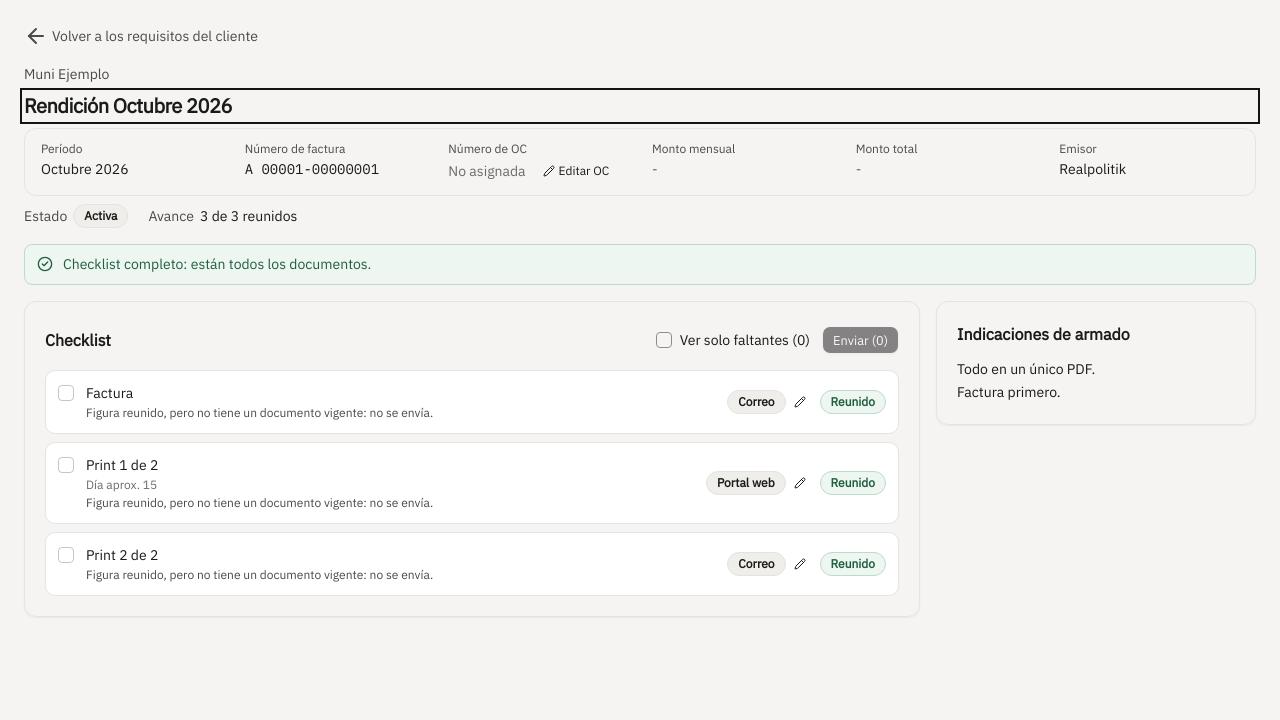
Test: RendicionDetallePage › con todos reunidos avisa que el checklist está completo
The image size is (1280, 720).
Expected: the text "Checklist completo: están todos los documentos." is shown, [63,255,371,273]
Click the checkbox named "Ver solo faltantes (0)" next to "Ver solo faltantes (" at (664, 340), box [656,332,672,348]
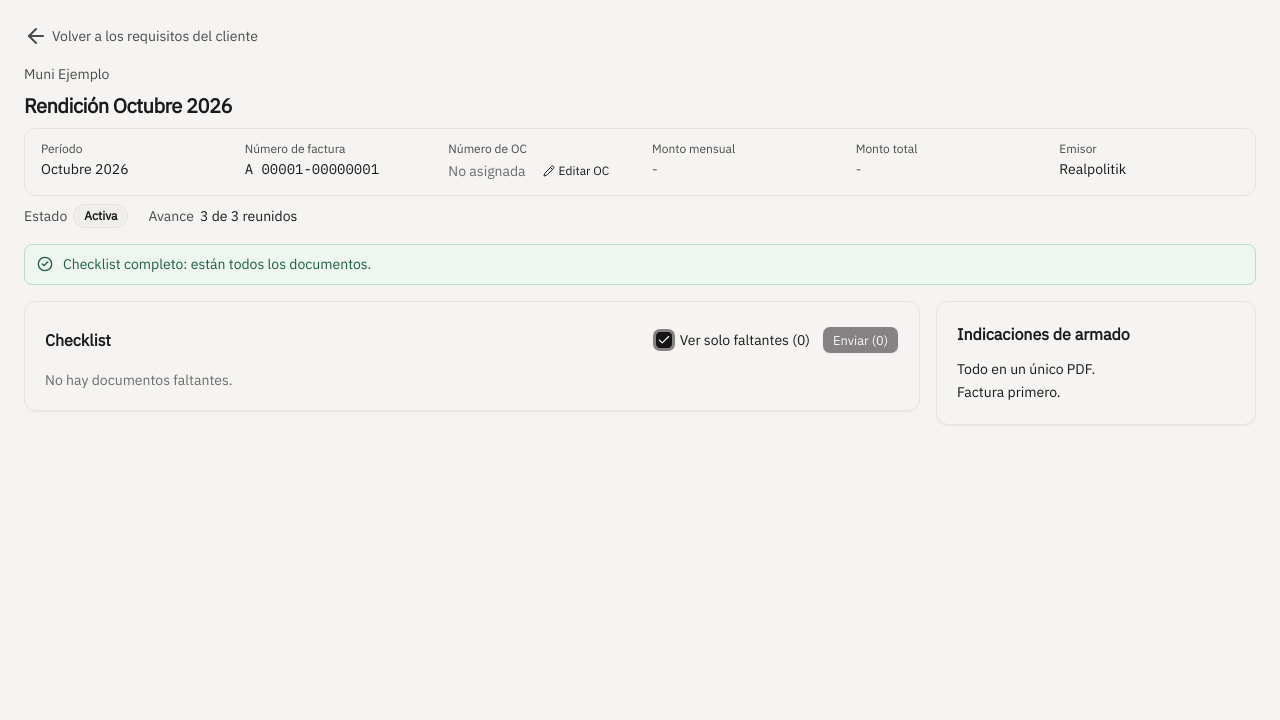
Expected: the text "No hay documentos faltantes." is shown, [45,371,232,389]
